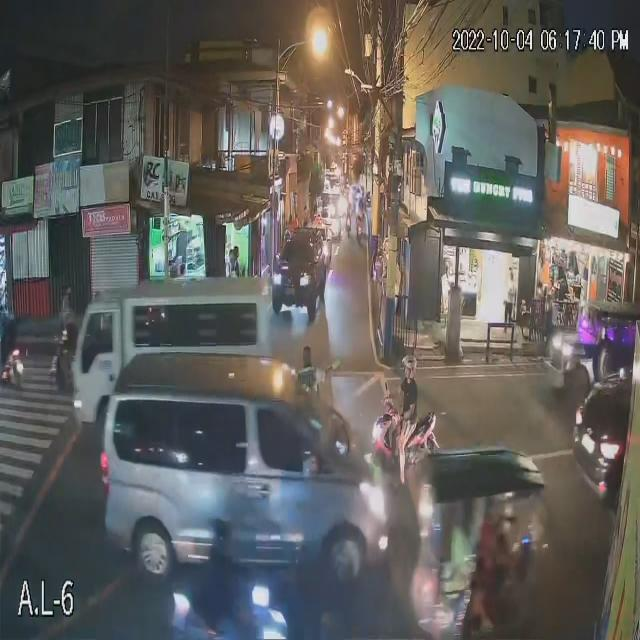helmet: (402, 354, 418, 370)
motorcycle: (423, 513, 532, 629), (168, 568, 288, 639), (370, 393, 442, 485), (0, 343, 26, 392)
rider: (187, 516, 245, 640), (471, 511, 503, 629), (386, 354, 420, 454)
